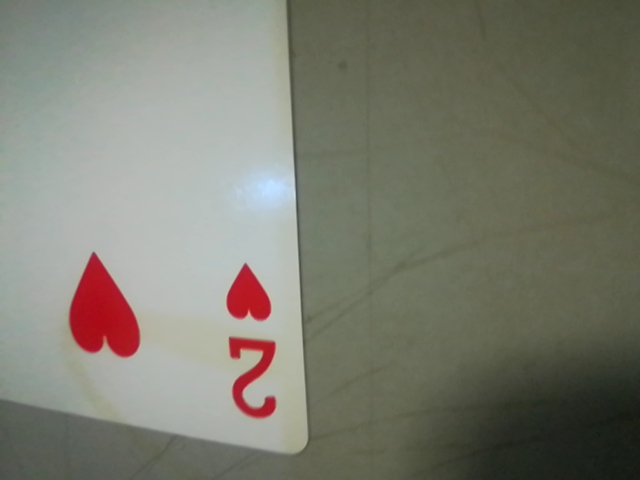hx 2: (208, 245, 296, 441)
